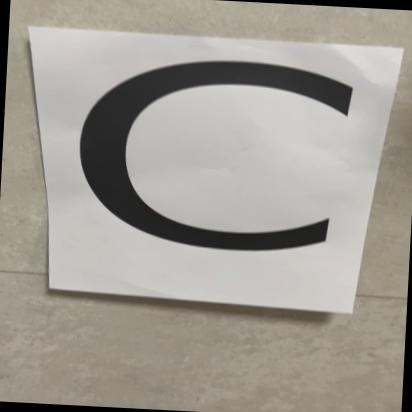seat: (37, 19, 394, 323)
